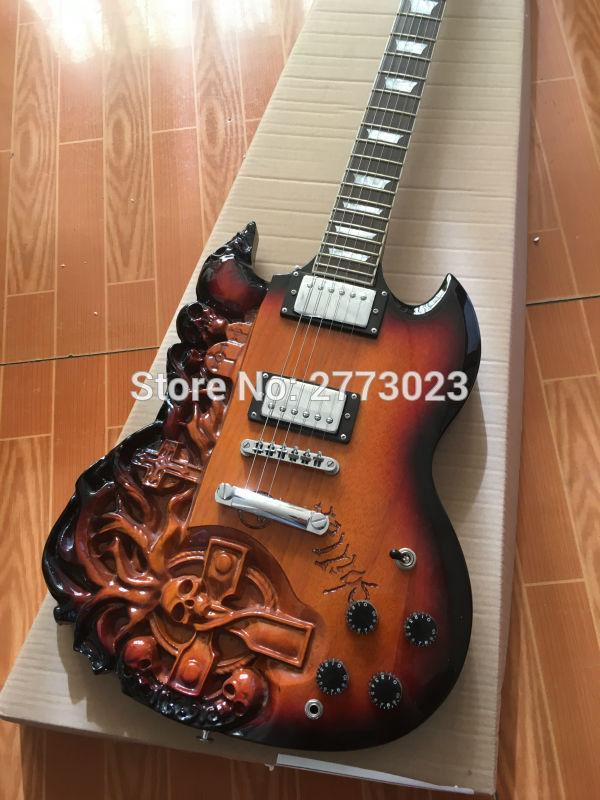ElectricGuitar: (39, 8, 517, 719)
